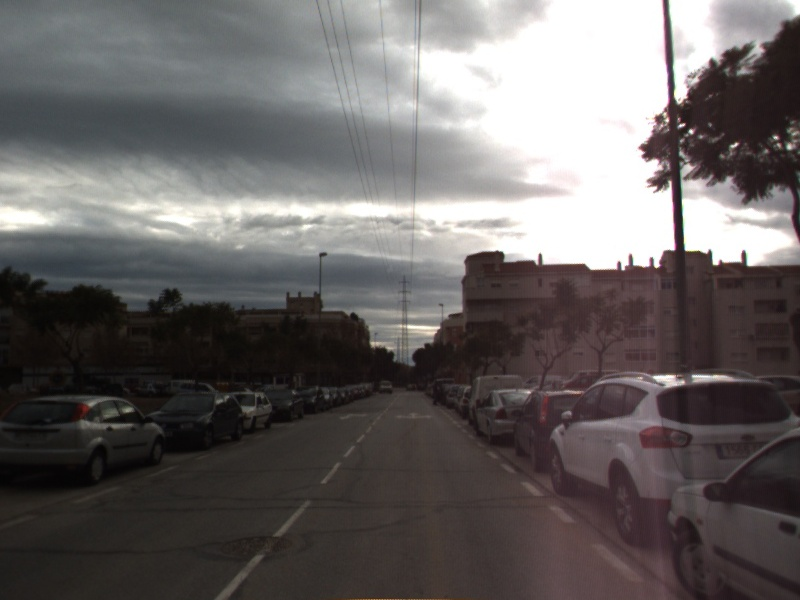STRAIGHT_LEFT_RIGHT: (393, 410, 436, 421)
